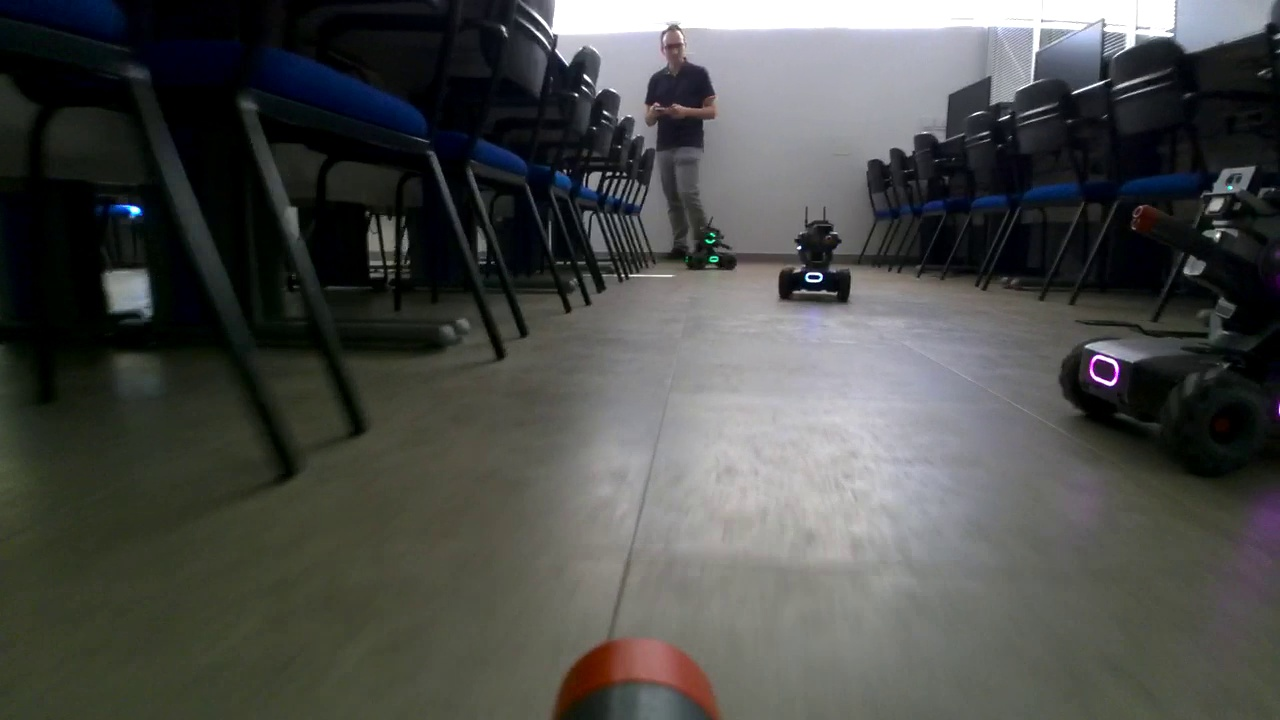robot: (1057, 166, 1280, 470), (781, 208, 850, 302), (686, 216, 737, 272)
